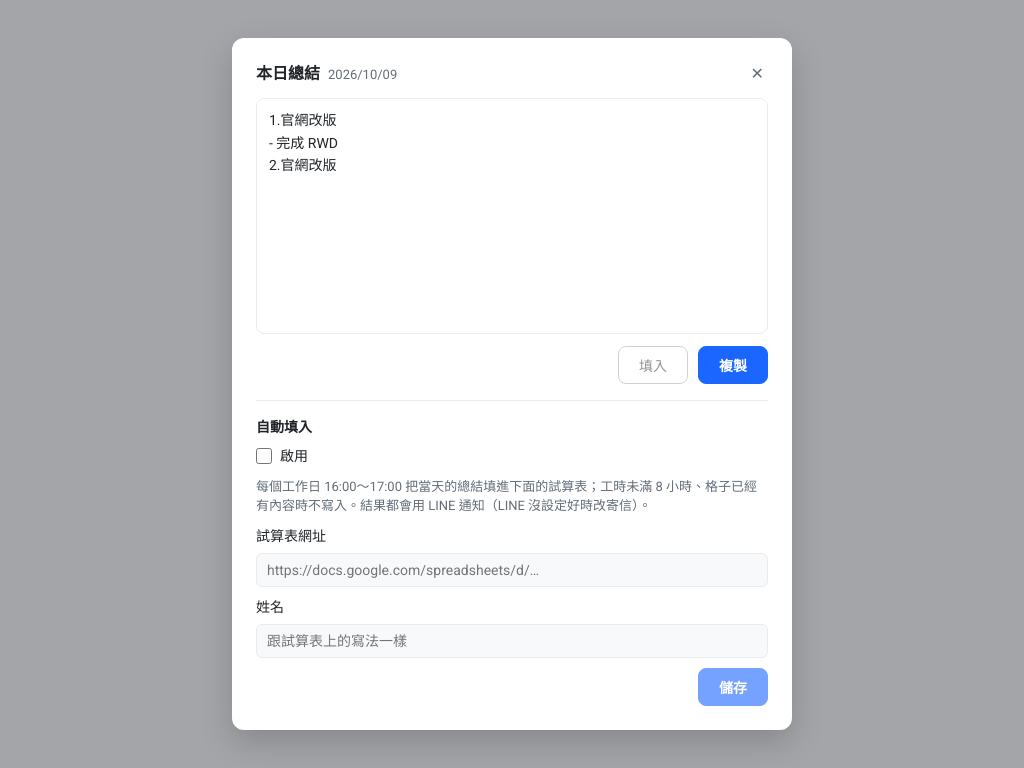
自動填入設定 › 沒有修改時「儲存」disabled
Expected: the submit button is disabled, [698,668,768,706]
Click the checkbox labelled "啟用" at [264, 456], box [256,448,272,464]
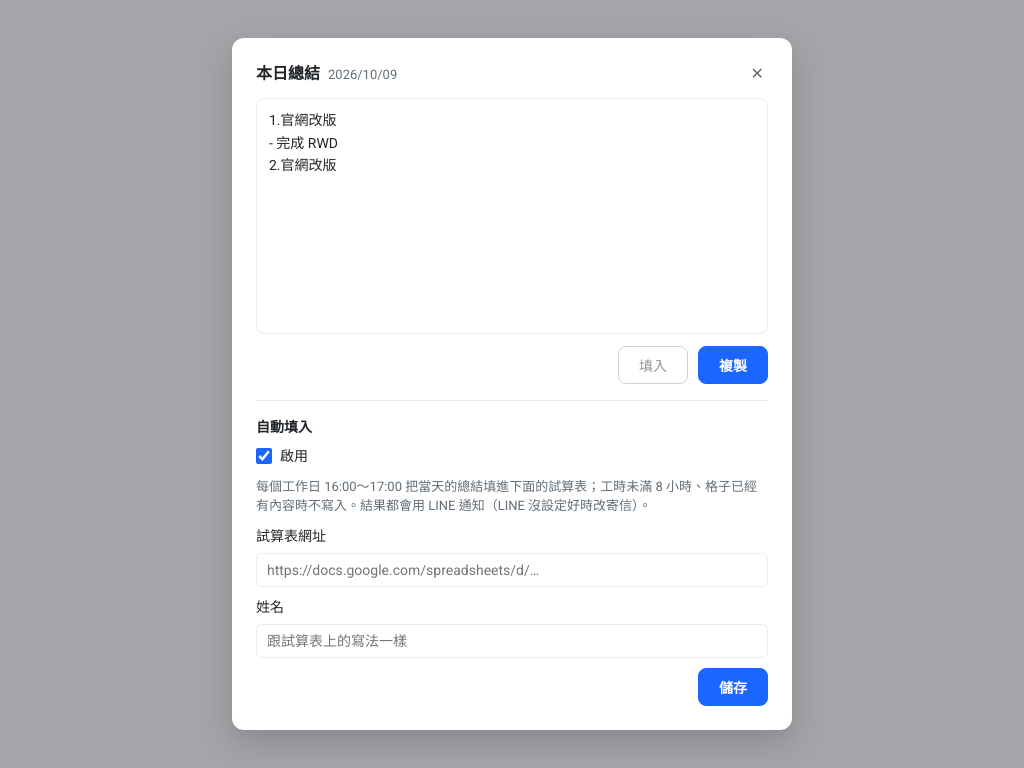
Result: the submit button is enabled at [698,668,768,706]
